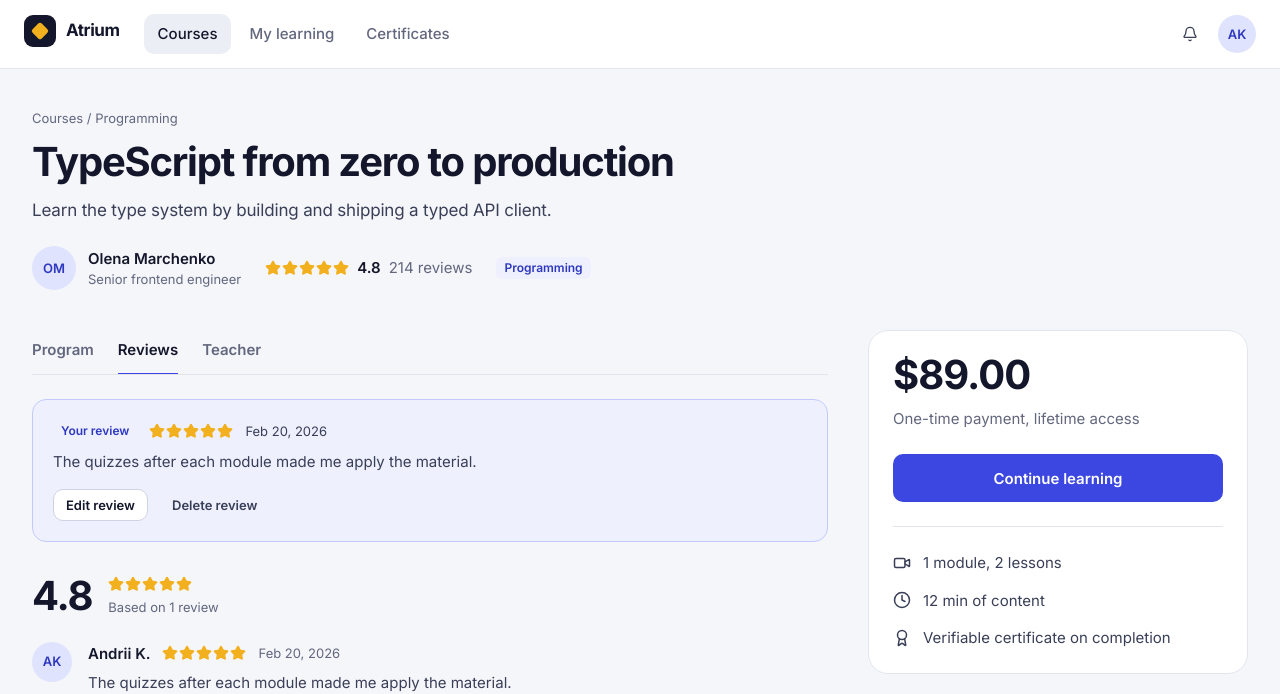
course reviews › deletes a review only after confirmation
Click the button "Delete review" at (215, 506), box [160,490,269,522]
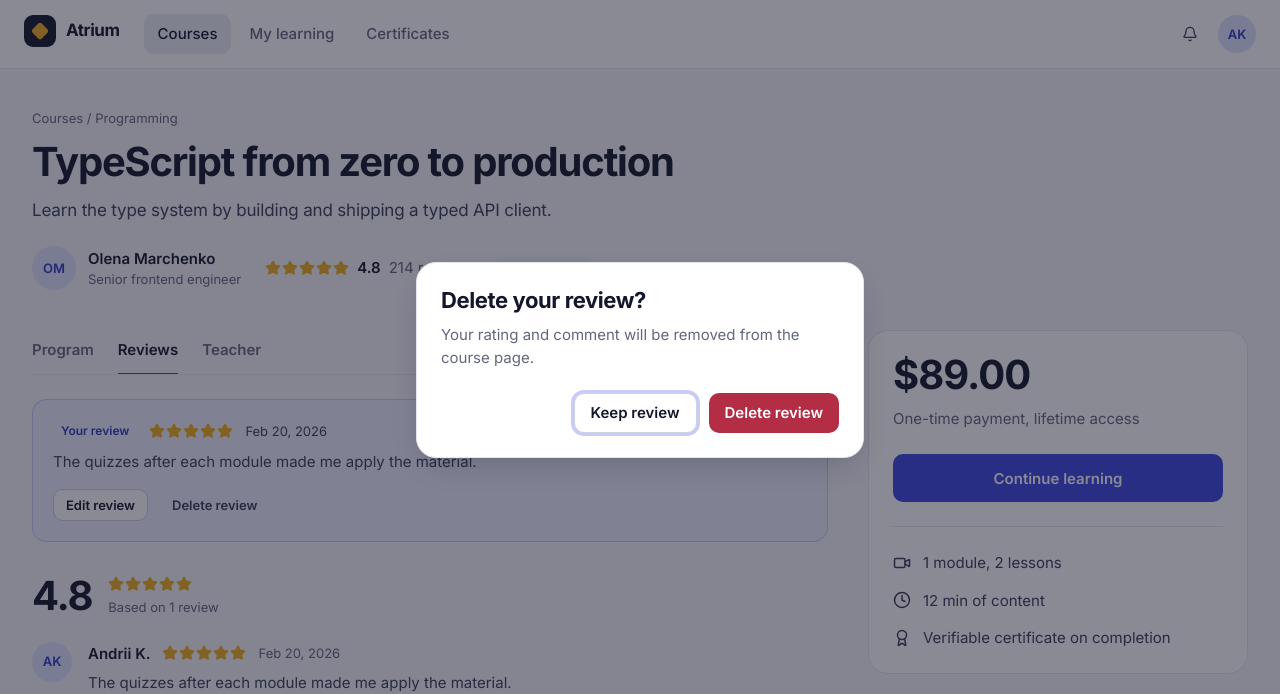
Click the button "Keep review" at (635, 413), box [574,393,696,433]
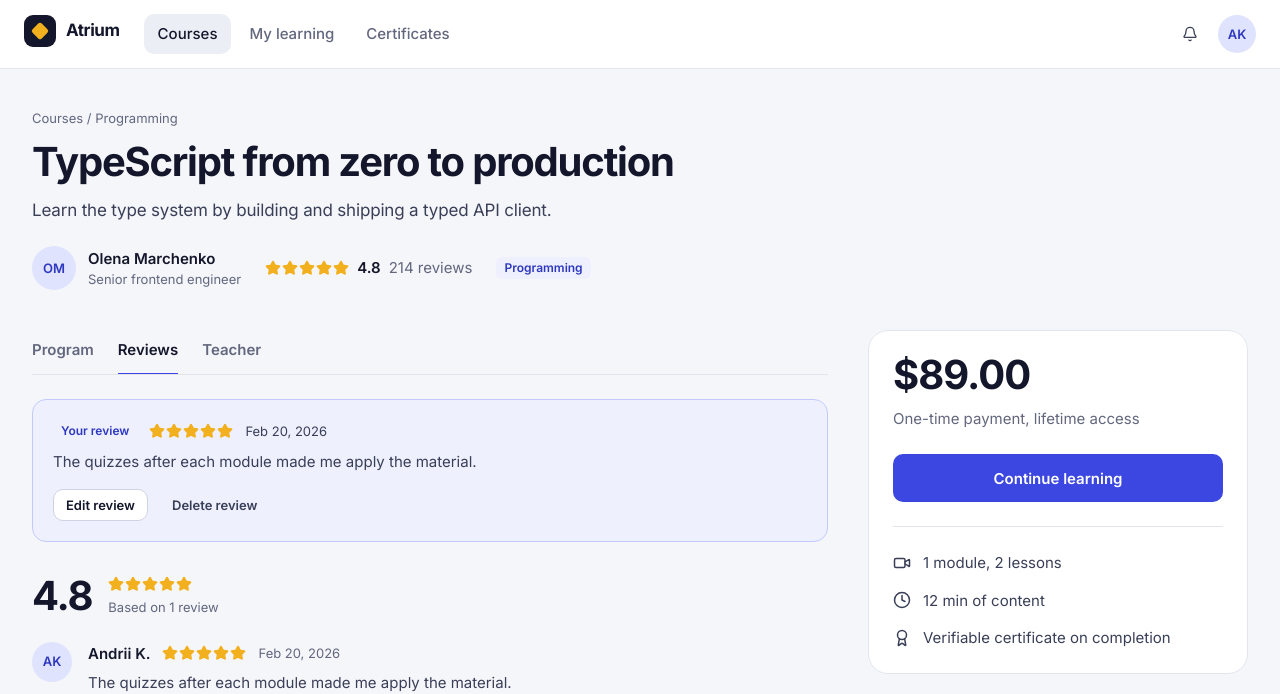
Click the button "Delete review" at (215, 506), box [160,490,269,522]
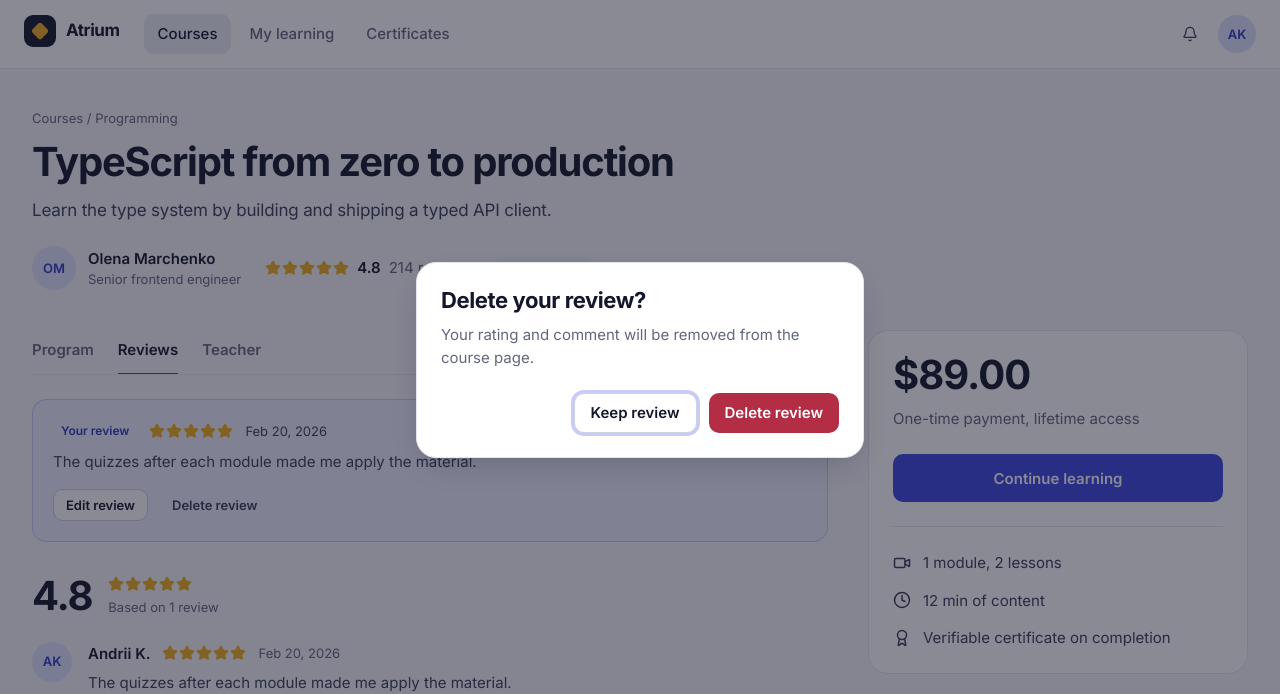
Click the button "Delete review" at (774, 413), box [708,393,839,433]
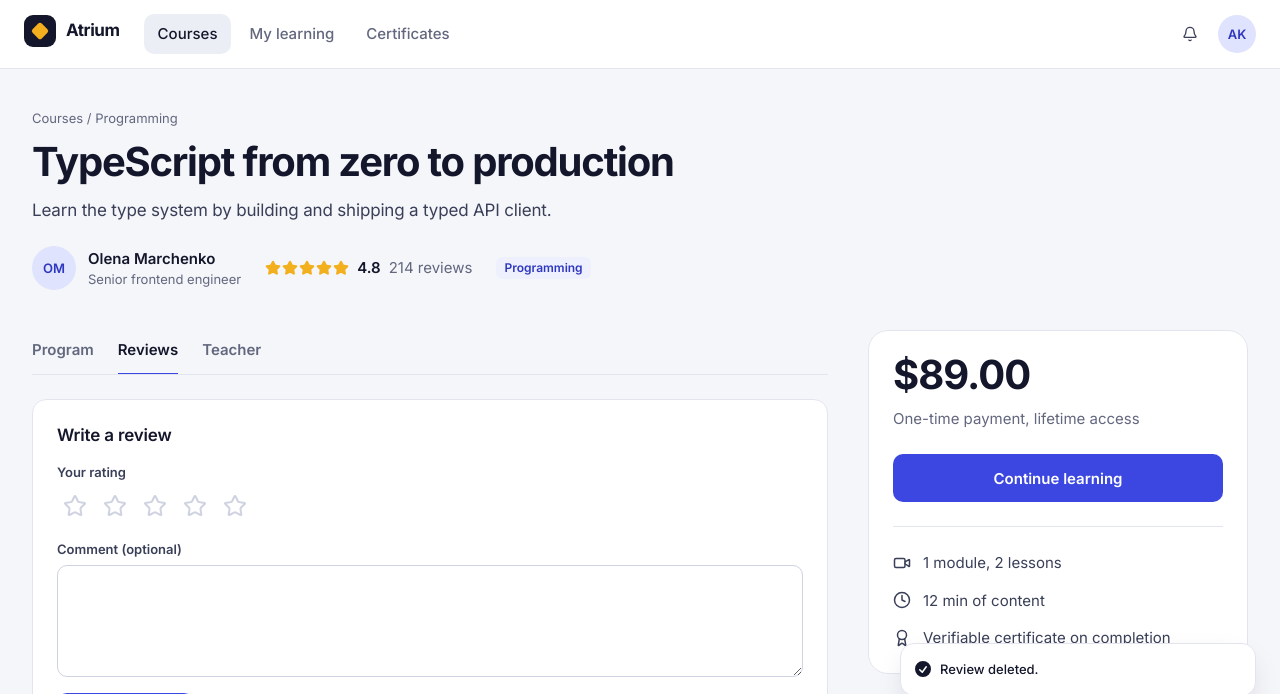
Result: the heading "Write a review" is shown at [57,425,172,445]
